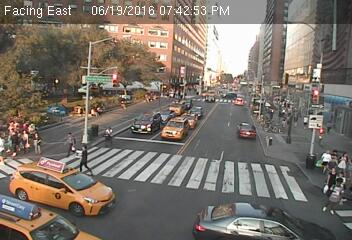neg: (76, 69, 98, 99), (53, 61, 68, 81), (43, 93, 56, 110)
pos: (75, 143, 98, 173), (61, 131, 83, 159)
